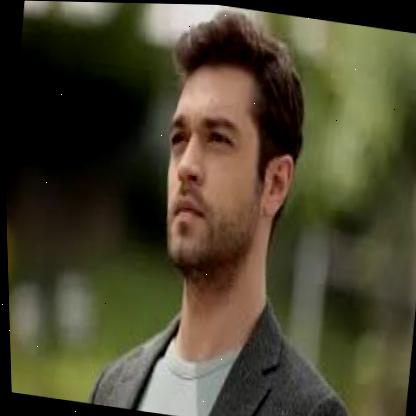person: (143, 4, 311, 298)
